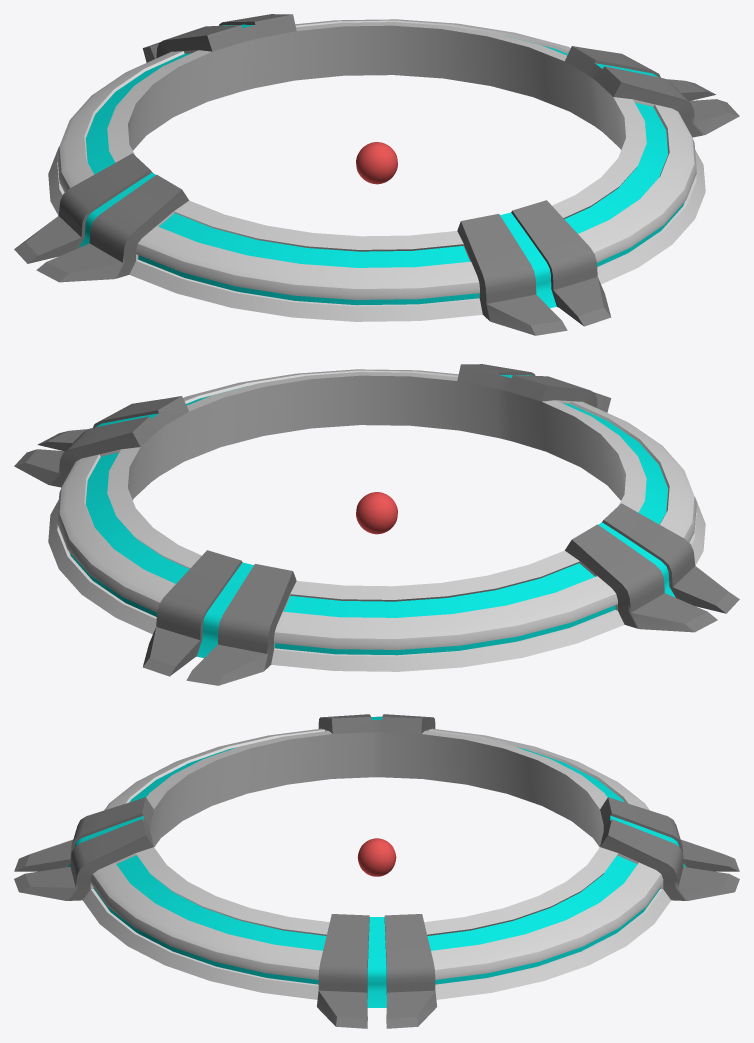
Rendered from Switch.fbx.
The picture shows the model from 3 angles, top to bottom: view 1: azimuth 30°, elevation 25°; view 2: azimuth 150°, elevation 25°; view 3: azimuth 270°, elevation 25°; orthographic projection. The views are drawn at different scales.
Parts seen in each view (by area): view 1: pPipe3, pSphere15; view 2: pPipe3, pSphere15; view 3: pPipe3, pSphere15.
Boxes of the visible parts, bbox=[...] form: pPipe3: bbox=[14, 14, 739, 335]; pSphere15: bbox=[356, 142, 397, 184]; pPipe3: bbox=[14, 364, 739, 685]; pSphere15: bbox=[356, 492, 397, 534]; pPipe3: bbox=[14, 714, 739, 1028]; pSphere15: bbox=[357, 838, 396, 876].
Bounding box in the file's own units: 3.71 × 0.337 × 3.71.
